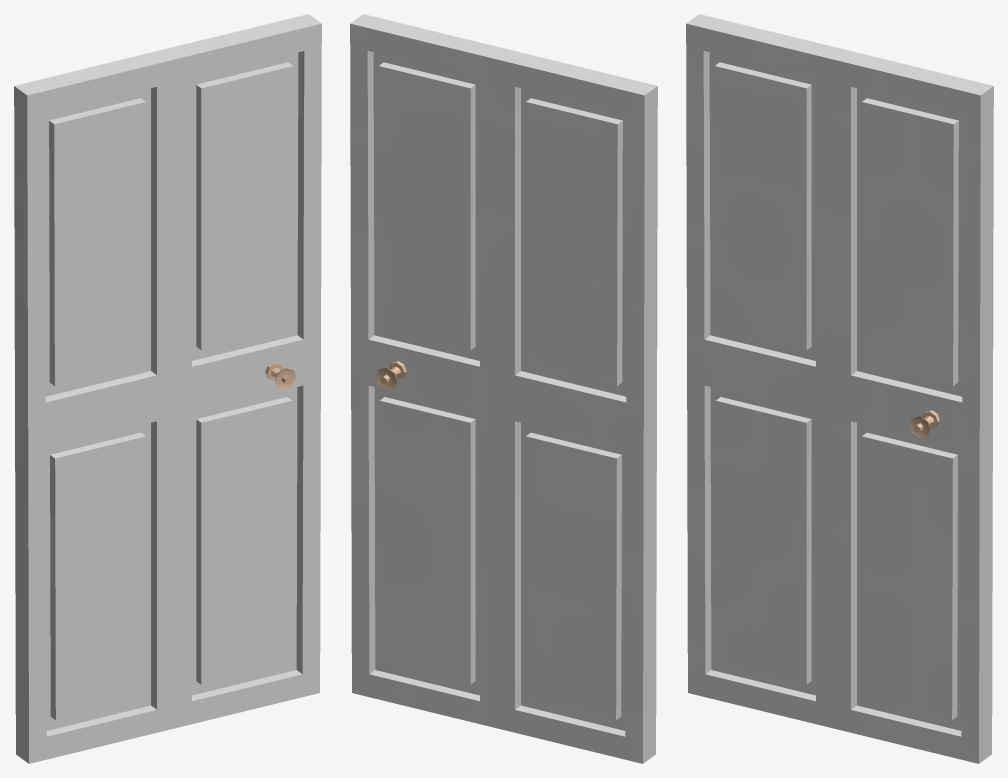
File: Door_04.fbx
3 views of the same model, side by side, from view 1: azimuth 30°, elevation 25°; view 2: azimuth 150°, elevation 25°; view 3: azimuth 330°, elevation 25° (orthographic).
Visible parts, largest first — view 1: Door_04; view 2: Door_04; view 3: Door_04.
Part boxes in pixels (x1,y1,x2,y2): Door_04: (14, 14, 321, 763); Door_04: (350, 14, 657, 763); Door_04: (686, 14, 993, 763).
Bounding box in the file's own units: 0.9005 × 1.95 × 0.2289.
